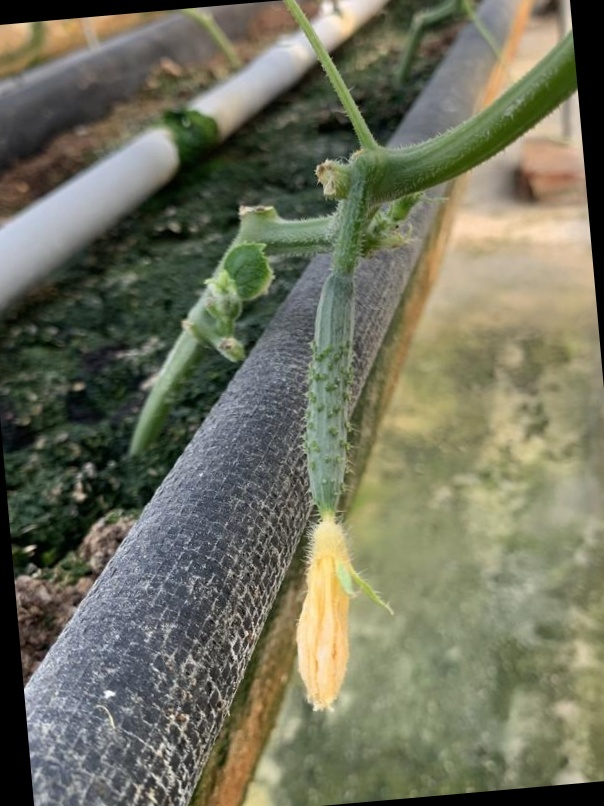bear: (270, 257, 408, 727)
